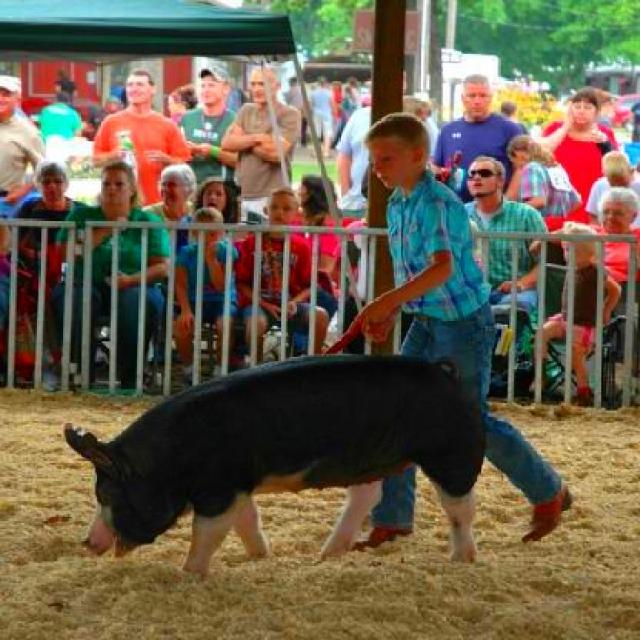Boar: (63, 352, 488, 578)
